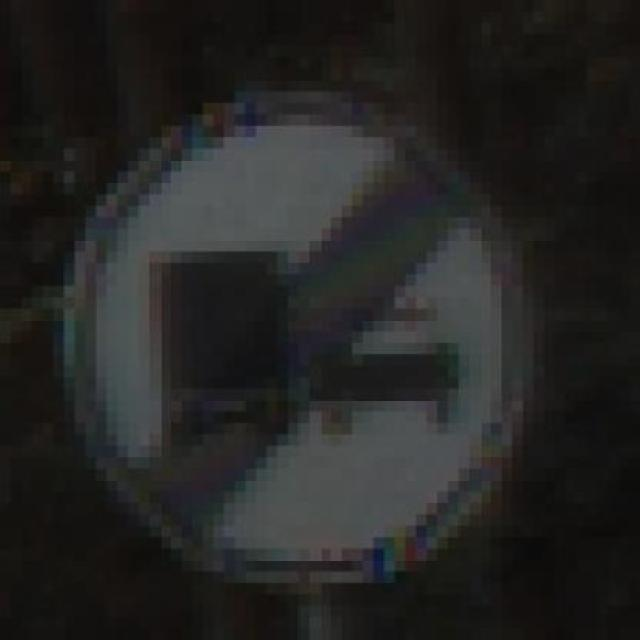Overtaking by trucks is prohibited: (32, 79, 566, 595)
